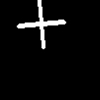single_crochet: (17, 0, 65, 48)
